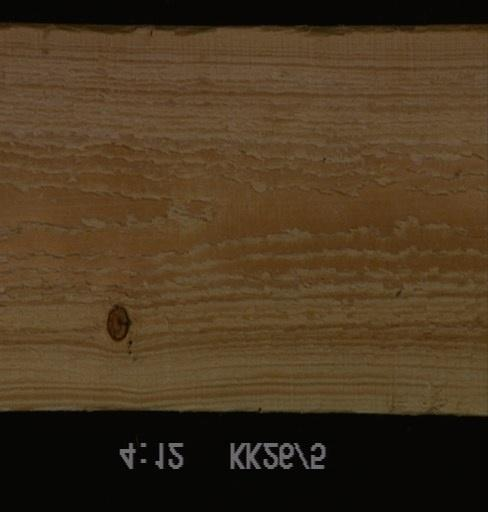dry_knot: (103, 303, 131, 343)
wave: (0, 25, 486, 47)
